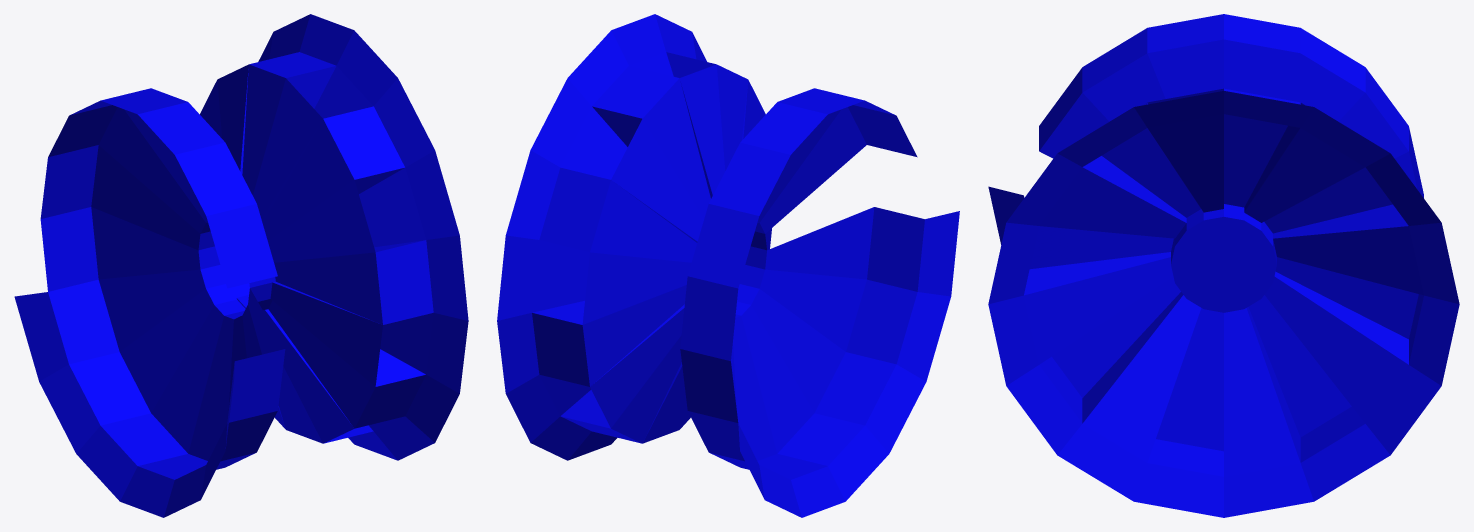
The model's file is rightTireFrame.glb.
The picture shows the model from 3 angles, left to right: view 1: azimuth 30°, elevation 25°; view 2: azimuth 150°, elevation 25°; view 3: azimuth 270°, elevation 25°; orthographic projection. The views are drawn at different scales.
Visible parts, largest first — view 1: rightTireFrame_Cube.008; view 2: rightTireFrame_Cube.008; view 3: rightTireFrame_Cube.008.
Part boxes in pixels (x1,y1,x2,y2): rightTireFrame_Cube.008: (14, 14, 468, 517); rightTireFrame_Cube.008: (497, 14, 959, 517); rightTireFrame_Cube.008: (988, 14, 1459, 517).
Bounding box in the file's own units: 0.3232 × 0.546 × 0.546.
Materials: 1 (1 with a texture image).
